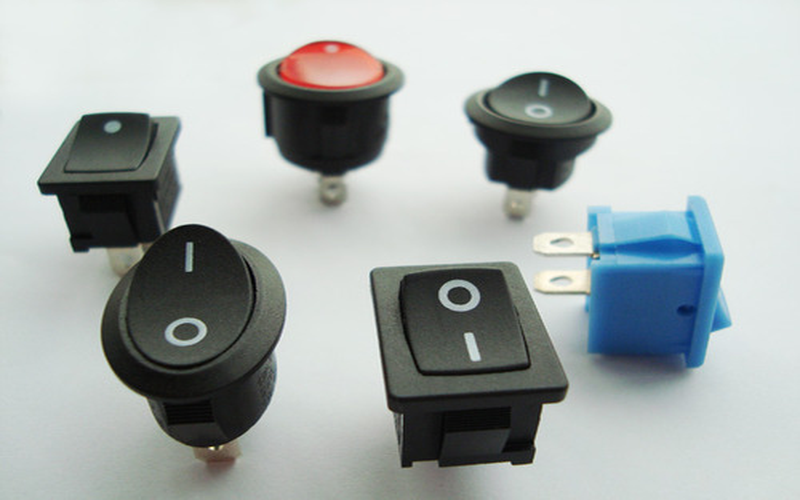Switches: (95, 190, 305, 488), (525, 177, 767, 392), (350, 255, 569, 468), (242, 17, 401, 223), (438, 48, 594, 220), (43, 100, 203, 249)
